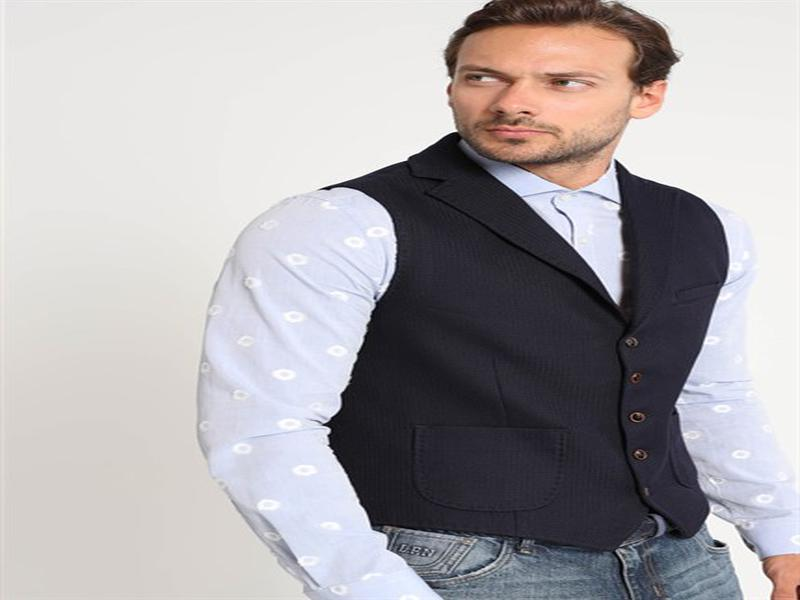human: (202, 2, 800, 593)
